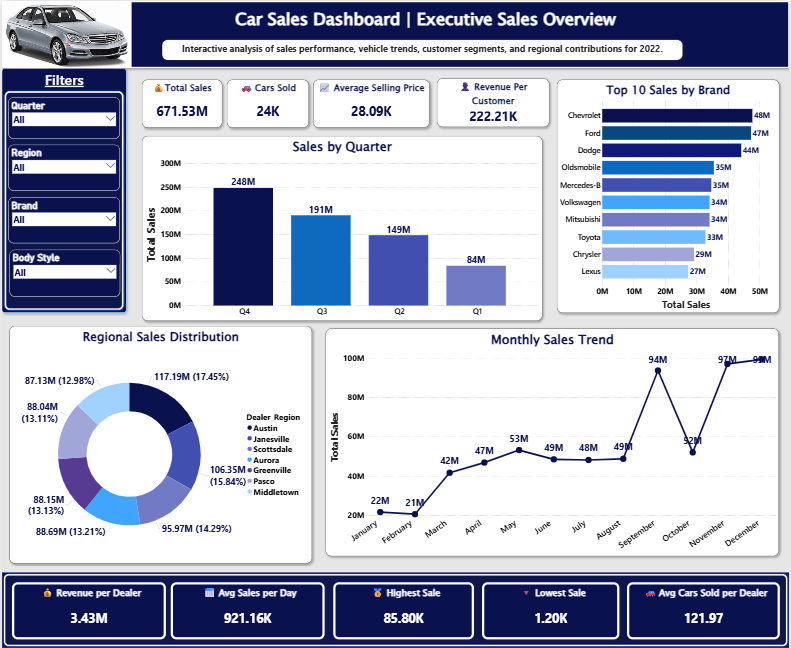

What the dashboard file says about the page in this screenshot:
{"tool":"powerbi","page":{"name":"Executive Sales Overview","canvas":[4200,3500],"ordinal":0},"visuals":[{"type":"shape","box":[0,3049.6,4199.1,404.7],"z":0},{"type":"textbox","box":[0,0,4199.1,357.7],"z":1000},{"type":"shape","title":"Filters","box":[0,357.7,662.7,1302],"z":2000},{"type":"actionButton","box":[0,0,100,40],"z":3000},{"type":"cardVisual","title":"💰Total Sales","fields":{"Data":["Measures_Table.Total Sales"]},"box":[745.6,418.9,427.3,255.5],"z":4000},{"type":"cardVisual","title":"🚗 Cars Sold","fields":{"Data":["Measures_Table.Cars Sold"]},"box":[1202.3,418.9,435.7,255.5],"z":5000},{"type":"cardVisual","title":"📈 Average Selling Price","fields":{"Data":["Measures_Table.Average Selling Price"]},"box":[1663,418.9,620,255.5],"z":6000},{"type":"cardVisual","title":"👤 Revenue Per Customer","fields":{"Data":["Measures_Table.Revenue Per Customer"]},"box":[2322.4,416.4,598.2,258],"z":7000},{"type":"image","box":[0,0,691.2,356.1],"z":8000},{"type":"textbox","box":[854.6,209.5,2777.3,108.9],"z":9000},{"type":"slicer","title":"Quarter","fields":{"Values":["Dim_Date.Quarter"]},"box":[31.8,513.6,595.5,222.7],"z":10000},{"type":"slicer","title":"Region","fields":{"Values":["Dim_Dealer.Dealer_Region"]},"box":[31.8,768.2,595.5,245.5],"z":11000},{"type":"slicer","title":"Brand","fields":{"Values":["Dim_Vehicle.Company"]},"box":[31.8,1045.5,595.5,245.5],"z":12000},{"type":"slicer","title":"Body Style","fields":{"Values":["Dim_Vehicle.Body Style"]},"box":[37.7,1323.7,590.7,251.3],"z":13000},{"type":"lineChart","title":"Monthly Sales Trend","fields":{"Y":["Measures_Table.Total Sales"],"Category":["Dim_Date.Month Name"]},"box":[1724.2,1747.7,2416.2,1214],"z":14000},{"type":"clusteredBarChart","title":"Top 10 Sales by Brand","fields":{"Category":["Dim_Vehicle.Company"],"Y":["Measures_Table.Total Sales"]},"box":[2961.6,422.3,1184.7,1243.3],"z":15000},{"type":"donutChart","title":"Regional Sales Distribution","fields":{"Category":["Dim_Dealer.Dealer_Region"],"Y":["Measures_Table.Total Sales"]},"box":[41.1,1735.9,1612.8,1266.8],"z":16000},{"type":"cardVisual","title":"🥇 Highest Sale","fields":{"Data":["Measures_Table.Highest Sale"]},"box":[1765.3,3102.4,750.7,305],"z":17000},{"type":"cardVisual","title":"🔻 Lowest Sale","fields":{"Data":["Measures_Table.Lowest Sale"]},"box":[2557,3102.4,733.1,305],"z":18000},{"type":"cardVisual","title":"💰 Revenue per Dealer","fields":{"Data":["Measures_Table.Revenue Per Dealer"]},"box":[52.8,3102.4,821,305],"z":19000},{"type":"cardVisual","title":"🚗 Avg Cars Sold per Dealer","fields":{"Data":["Measures_Table.Average Cars Sold Per Dealer"]},"box":[3331.1,3102.4,815.2,305],"z":20000},{"type":"cardVisual","title":"📅 Avg Sales per Day","fields":{"Data":["Measures_Table.Average Sales Per Day"]},"box":[903.2,3102.4,821,305],"z":21000},{"type":"columnChart","title":"Sales by Quarter","fields":{"Y":["Measures_Table.Total Sales"],"Category":["Dim_Date.Quarter"]},"box":[744.8,721.4,2134.7,985.3],"z":22000}]}

Visuals, with their boxes in screenshot pixels (x1, y1, x2, y2), scaled from the page's 4200x3500 canvas onto the 791x648 screenshot:
shape: rect(0, 565, 790, 640)
textbox: rect(0, 0, 790, 66)
"Filters" shape: rect(0, 66, 125, 307)
actionButton: rect(0, 0, 19, 7)
"💰Total Sales" cardVisual: rect(140, 78, 221, 125)
"🚗 Cars Sold" cardVisual: rect(226, 78, 308, 125)
"📈 Average Selling Price" cardVisual: rect(313, 78, 430, 125)
"👤 Revenue Per Customer" cardVisual: rect(437, 77, 550, 125)
image: rect(0, 0, 130, 66)
textbox: rect(161, 39, 684, 59)
"Quarter" slicer: rect(6, 95, 118, 136)
"Region" slicer: rect(6, 142, 118, 188)
"Brand" slicer: rect(6, 194, 118, 239)
"Body Style" slicer: rect(7, 245, 118, 292)
"Monthly Sales Trend" lineChart: rect(325, 324, 780, 548)
"Top 10 Sales by Brand" clusteredBarChart: rect(558, 78, 781, 308)
"Regional Sales Distribution" donutChart: rect(8, 321, 311, 556)
"🥇 Highest Sale" cardVisual: rect(332, 574, 474, 631)
"🔻 Lowest Sale" cardVisual: rect(482, 574, 620, 631)
"💰 Revenue per Dealer" cardVisual: rect(10, 574, 165, 631)
"🚗 Avg Cars Sold per Dealer" cardVisual: rect(627, 574, 781, 631)
"📅 Avg Sales per Day" cardVisual: rect(170, 574, 325, 631)
"Sales by Quarter" columnChart: rect(140, 134, 542, 316)
